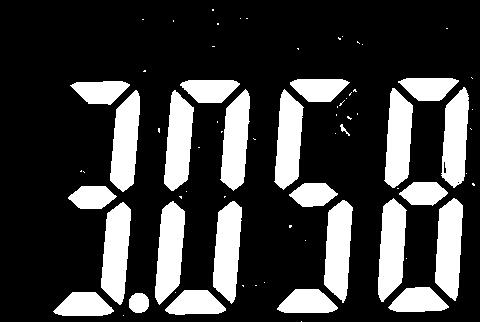0: (152, 78, 252, 320)
3: (47, 77, 142, 316)
5: (273, 76, 357, 317)
8: (376, 70, 472, 313)
dot: (129, 291, 152, 316)
